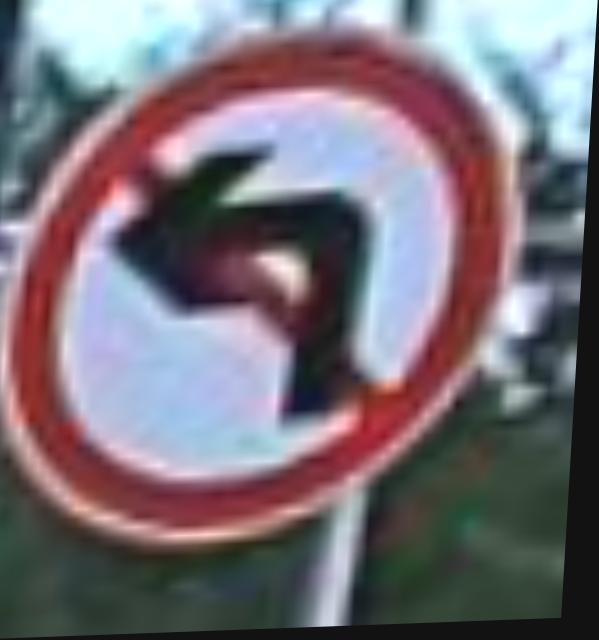not_turn_left: (17, 50, 523, 517)
